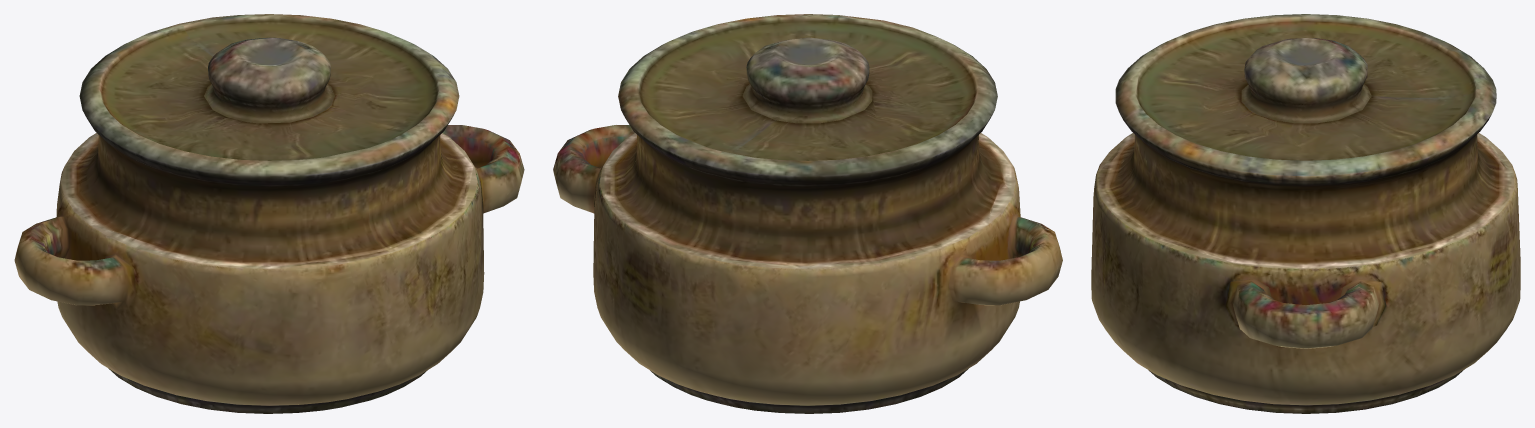
Rendered from ceramic_pot.glb.
The picture shows the model from 3 angles, left to right: view 1: azimuth 30°, elevation 25°; view 2: azimuth 150°, elevation 25°; view 3: azimuth 270°, elevation 25°; orthographic projection.
Visible parts, largest first — view 1: ceramic_pot; view 2: ceramic_pot; view 3: ceramic_pot.
Part boxes in pixels (bbox=[...]): ceramic_pot: bbox=[14, 14, 524, 413]; ceramic_pot: bbox=[553, 14, 1062, 413]; ceramic_pot: bbox=[1091, 14, 1520, 413].
Size of the model in its own units: 0.6563 by 0.3717 by 0.5005.
Materials: 1 (1 with a texture image).
